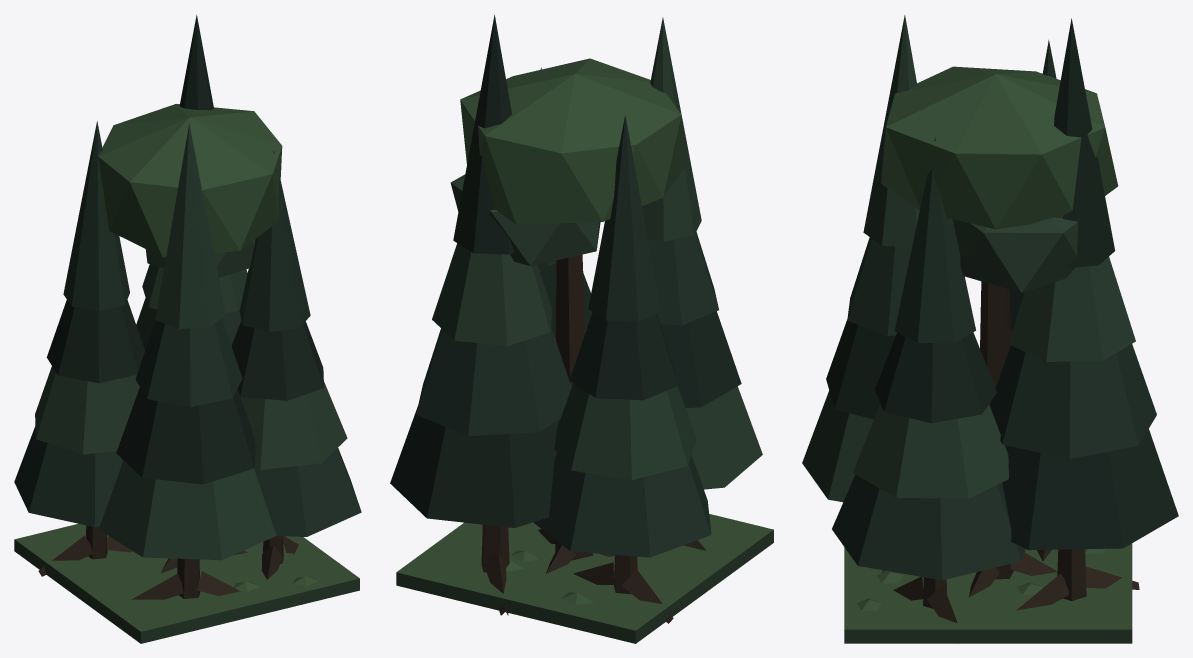
File: forest_2c.glb
3 renders of one model, left to right at view 1: azimuth 30°, elevation 25°; view 2: azimuth 150°, elevation 25°; view 3: azimuth 270°, elevation 25°, orthographic. The views are drawn at different scales.
Parts seen in each view (by area): view 1: forest_2c; view 2: forest_2c; view 3: forest_2c.
Part boxes in pixels (x1,y1,x2,y2): forest_2c: (14,14,361,643); forest_2c: (390,15,773,643); forest_2c: (802,15,1178,643).
Bounding box in the file's own units: 2.43 × 4.32 × 2.49.
